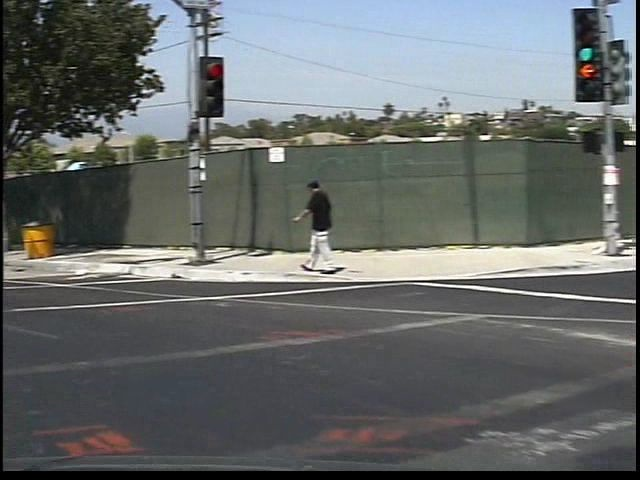person: (286, 168, 335, 286)
